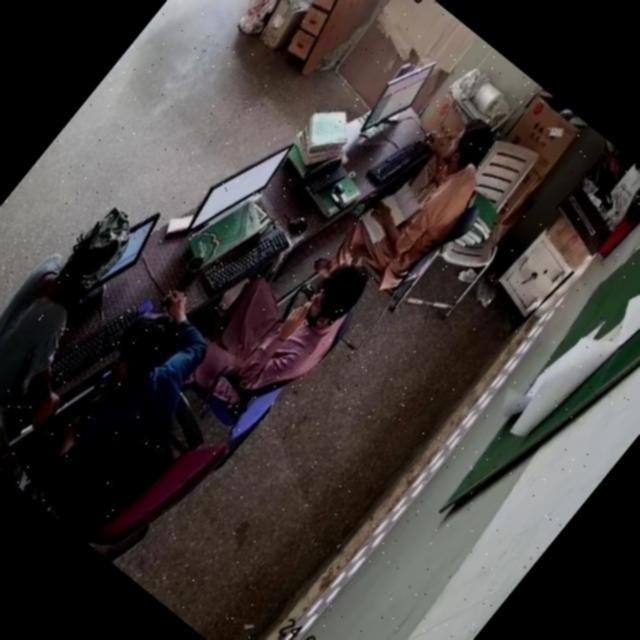person: (38, 290, 240, 505), (0, 192, 149, 434), (202, 218, 382, 412), (352, 103, 506, 274)
